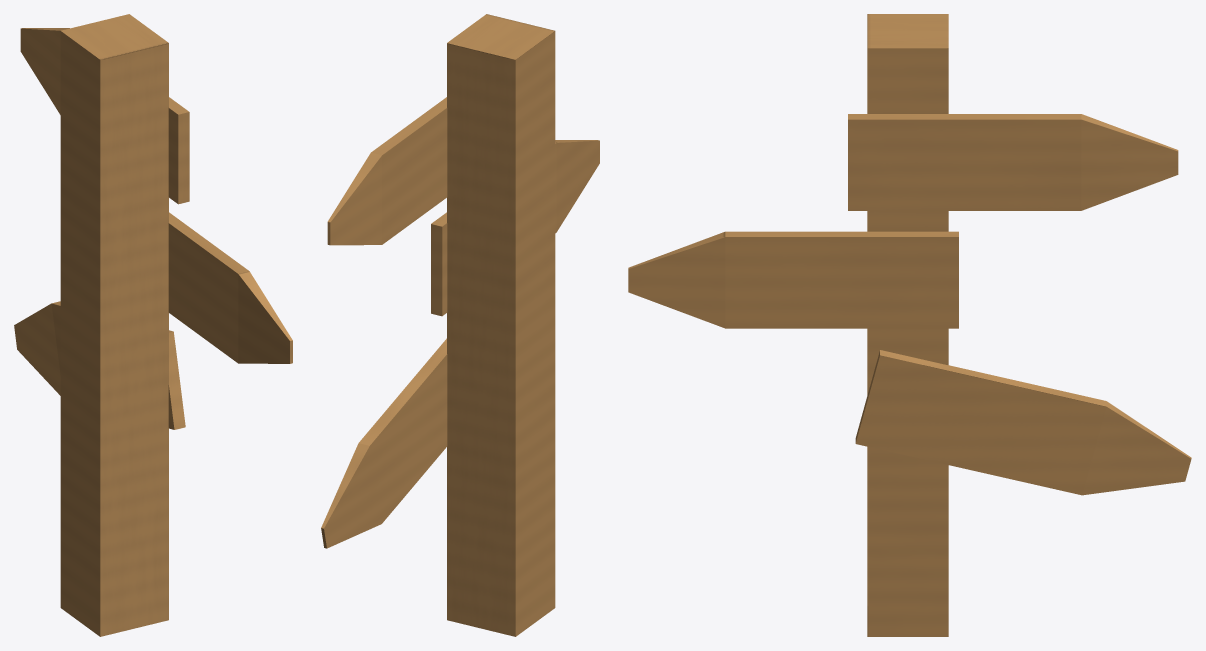
File: sign.fbx
3 renders of one model, left to right at view 1: azimuth 30°, elevation 25°; view 2: azimuth 150°, elevation 25°; view 3: azimuth 270°, elevation 25°, orthographic. The views are drawn at different scales.
Parts seen in each view (by area): view 1: Sign EXP; view 2: Sign EXP; view 3: Sign EXP.
Part boxes in pixels (x1,y1,x2,y2): Sign EXP: (14,14,292,636); Sign EXP: (321,14,599,636); Sign EXP: (628,14,1191,636).
Bounding box in the file's own units: 28.28 × 196 × 170.
1 material, 1 textured.
